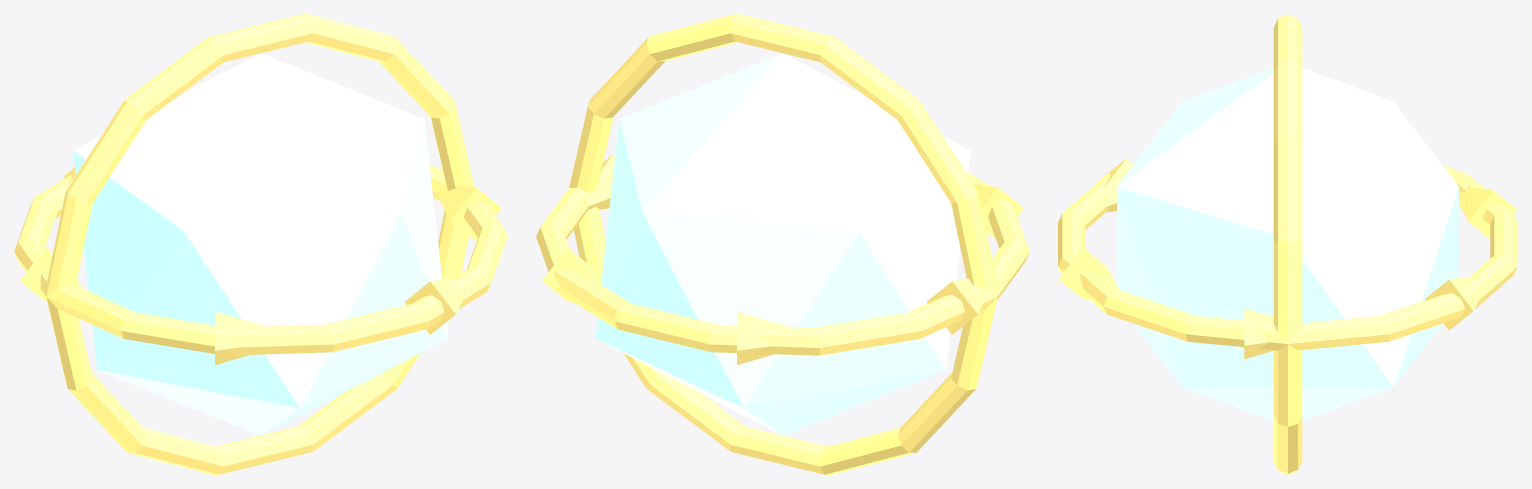
The model's file is orb_crystal.glb.
The picture shows the model from 3 angles, left to right: view 1: azimuth 30°, elevation 25°; view 2: azimuth 150°, elevation 25°; view 3: azimuth 270°, elevation 25°; orthographic projection. The views are drawn at different scales.
Visible parts, largest first — view 1: PangCrystalCore; view 2: PangCrystalCore; view 3: PangCrystalCore.
Part boxes in pixels (left/top/right/bottom): PangCrystalCore: left=14, top=14, right=507, bottom=474; PangCrystalCore: left=536, top=14, right=1029, bottom=474; PangCrystalCore: left=1058, top=14, right=1517, bottom=474.
Bounding box in the file's own units: 1.86 × 1.78 × 1.78.
